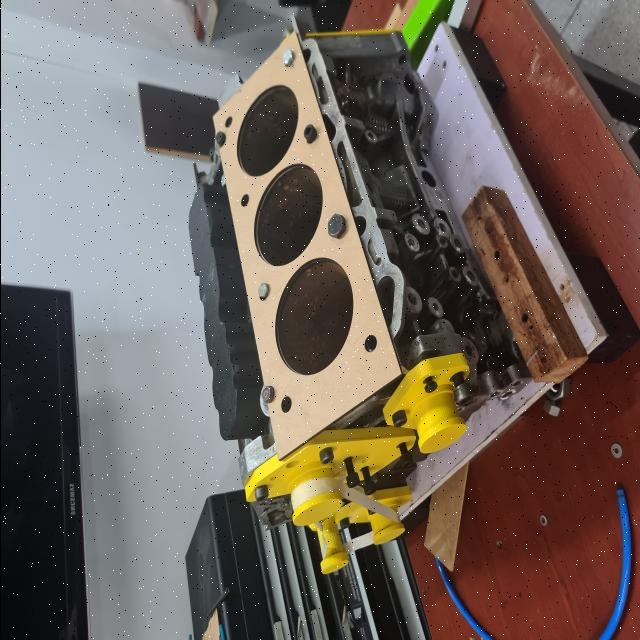vista1: (211, 30, 401, 458)
